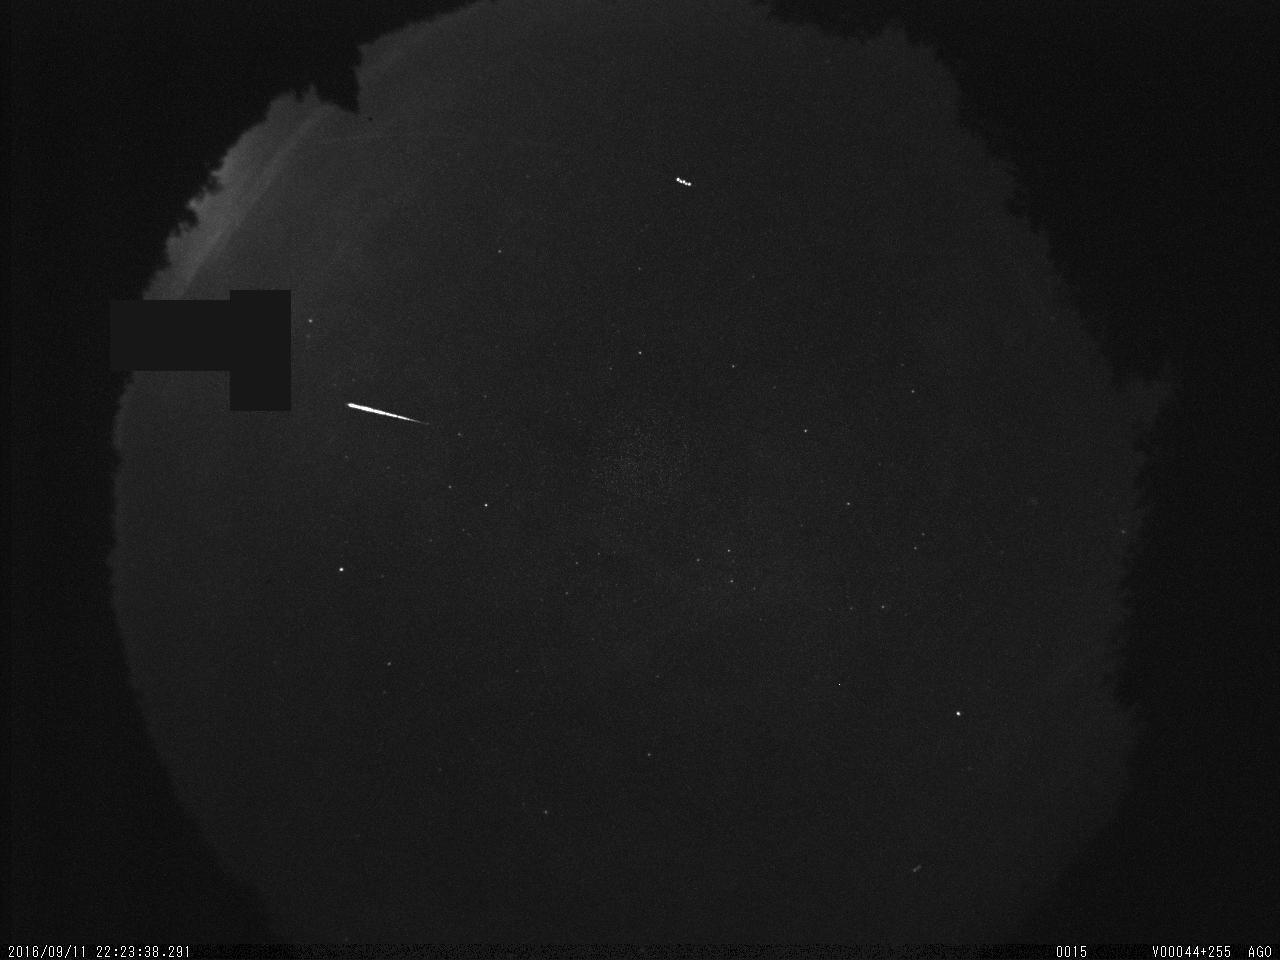Meteor: (342, 400, 427, 425)
